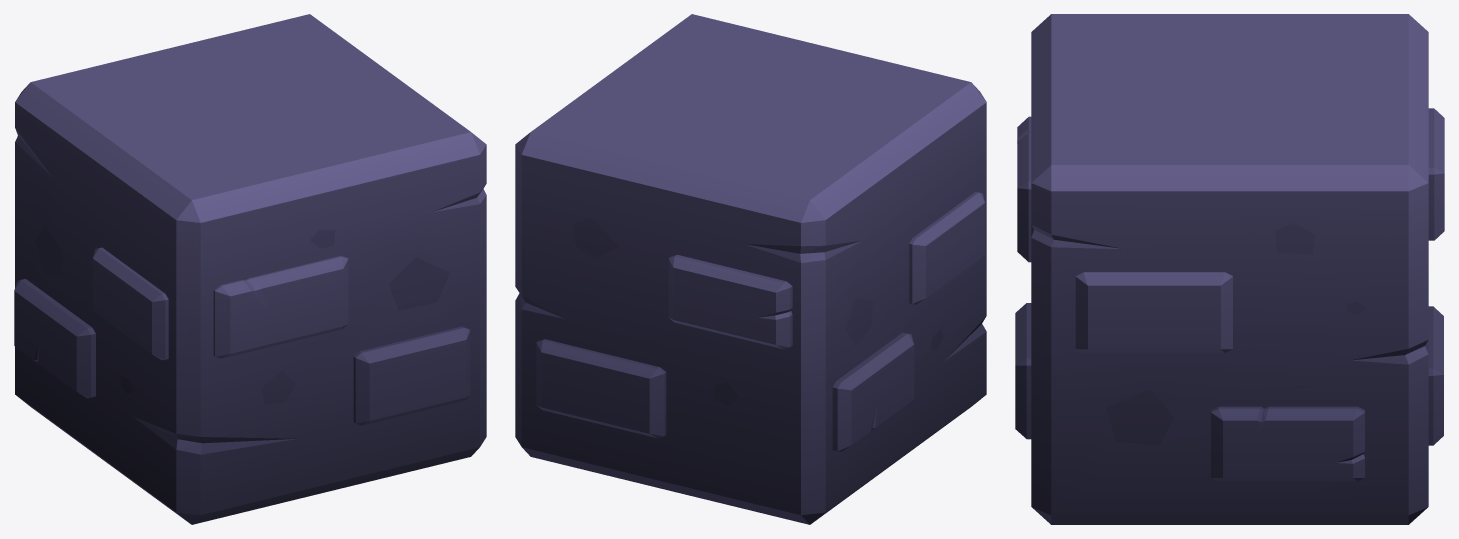
Rendered from block.glb.
3 renders of one model, left to right at view 1: azimuth 30°, elevation 25°; view 2: azimuth 150°, elevation 25°; view 3: azimuth 270°, elevation 25°, orthographic. The views are drawn at different scales.
Visible parts, largest first — view 1: block; view 2: block; view 3: block.
Part boxes in pixels (x1,y1,x2,y2): block: (14,14,486,524); block: (515,14,986,524); block: (1015,14,1444,524).
Bounding box in the file's own units: 2.16 × 2 × 2.16.
Materials: 1 (1 with a texture image).
